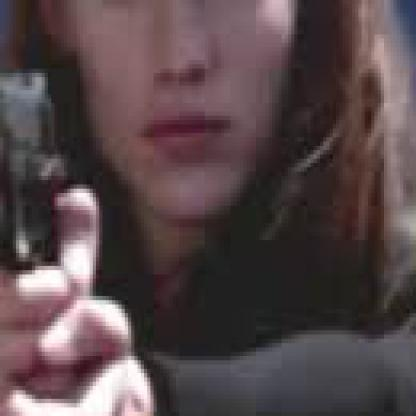gun: (6, 34, 157, 412)
